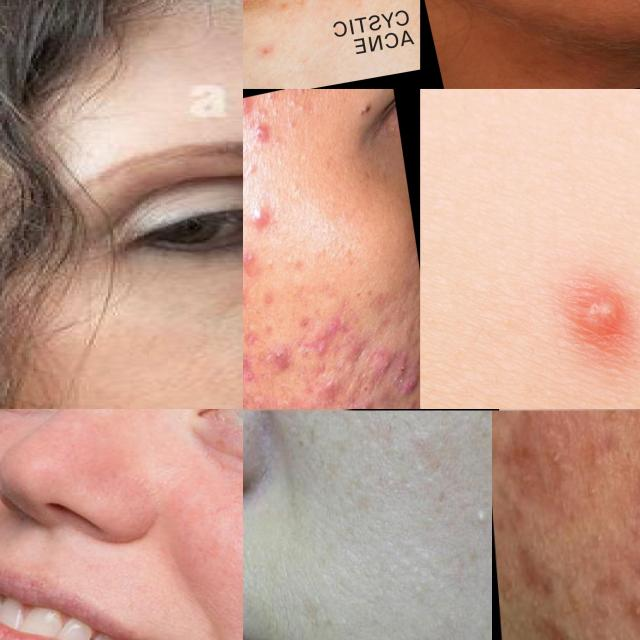comedone: (278, 89, 316, 121), (261, 248, 281, 277)
keloid: (292, 387, 390, 409), (367, 347, 392, 387), (399, 380, 420, 400), (393, 400, 420, 409)
milium: (466, 498, 492, 532), (460, 411, 492, 438)
papule: (548, 240, 640, 387), (307, 306, 357, 369), (243, 196, 273, 236), (265, 340, 295, 378), (248, 116, 276, 152), (243, 242, 258, 273)
